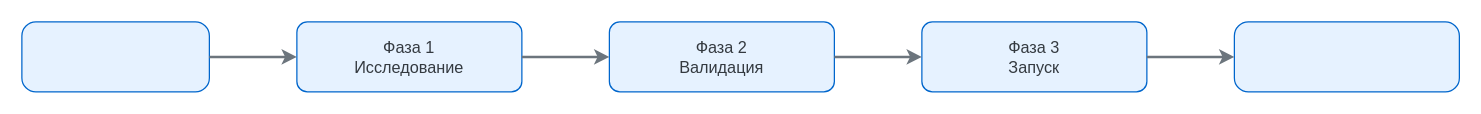
Some shapes in this 1481 by 114 pixel diagram are drawn without their labels. The centre of each missing label's shape, as x and y in pixels:
"Handoff в Delivery" goes at pixel 1346 56.
"Инициатива" goes at pixel 115 56.
